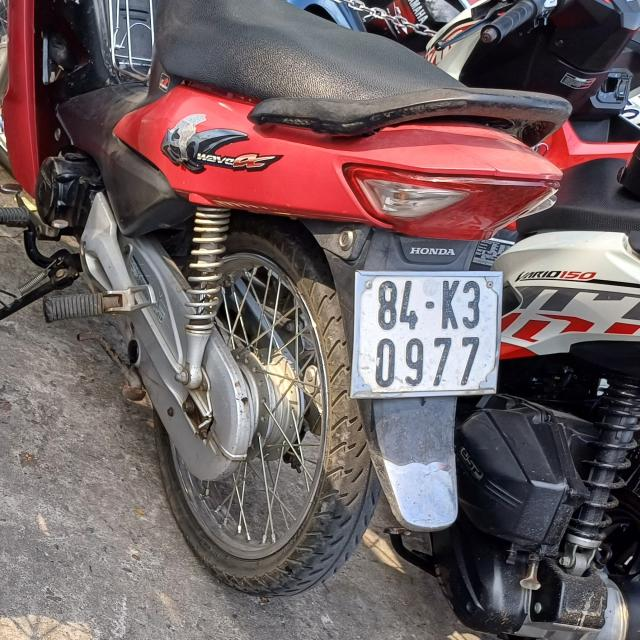0: (376, 340, 394, 387)
3: (464, 280, 481, 329)
4: (400, 280, 418, 330)
7: (433, 338, 452, 386), (460, 336, 479, 384)
8: (379, 281, 397, 331)
9: (404, 338, 424, 386)
K: (441, 280, 460, 330)
